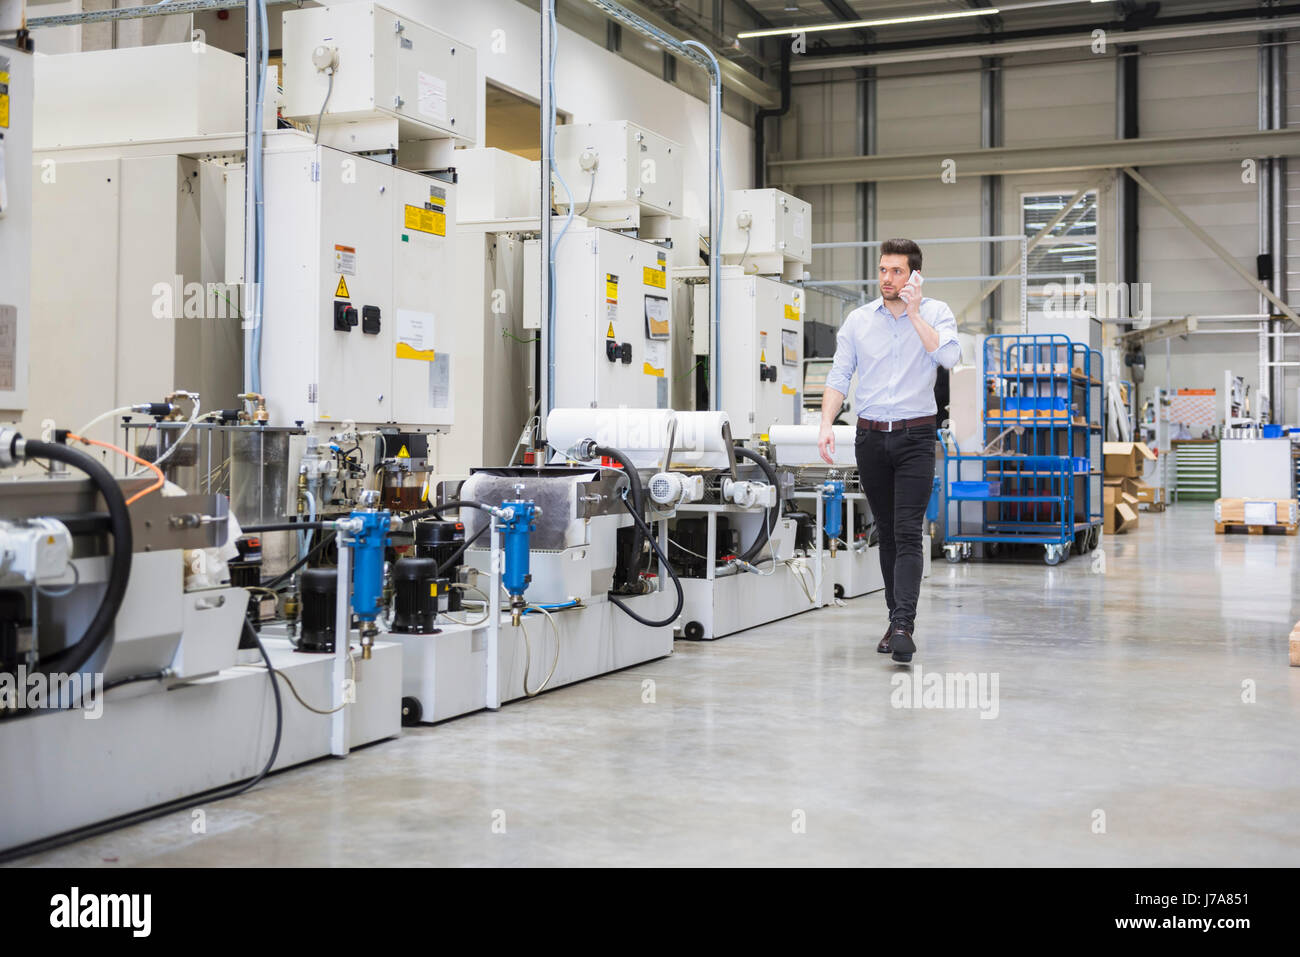person: (818, 239, 957, 667)
